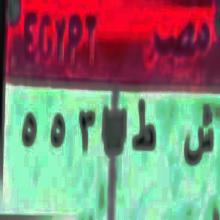3: (75, 103, 96, 159)
5: (45, 109, 66, 156), (21, 110, 37, 156)
Taa: (129, 95, 156, 165)
sheen: (182, 102, 214, 173)
